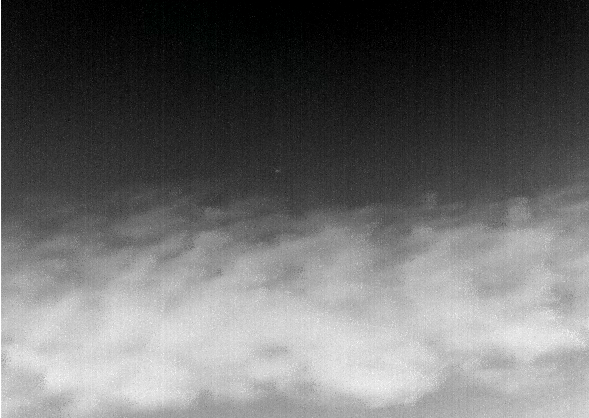dim target: (274, 168, 280, 174)
